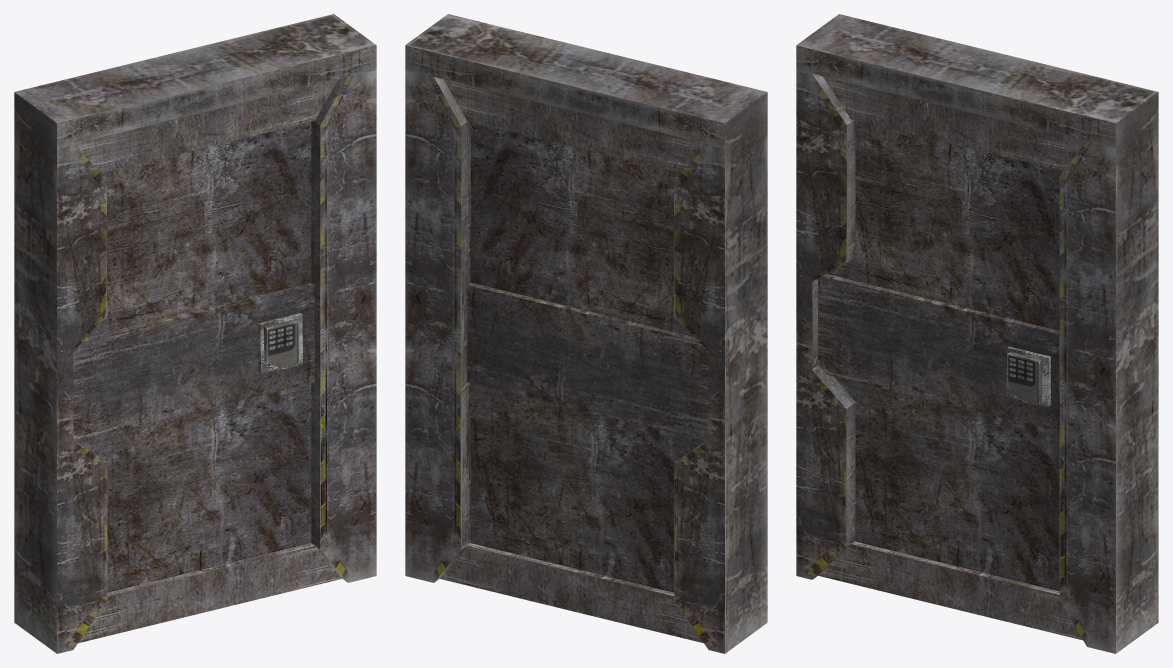
The model's file is door_clickable.dae.
3 views of the same model, side by side, from view 1: azimuth 30°, elevation 25°; view 2: azimuth 150°, elevation 25°; view 3: azimuth 330°, elevation 25° (orthographic).
Visible parts, largest first — view 1: door1, frame, panel; view 2: door1, frame; view 3: door1, frame, panel.
Boxes of the visible parts, x1,y1,x2,y2 form: door1: (73,79,341,643); frame: (14,14,376,653); panel: (264,319,299,369); door1: (440,79,708,643); frame: (405,14,767,653); door1: (818,76,1086,640); frame: (796,14,1158,653); panel: (1007,351,1042,405).
Size of what is drawn, in the model's own units: 1.38 by 2.19 by 0.324.
